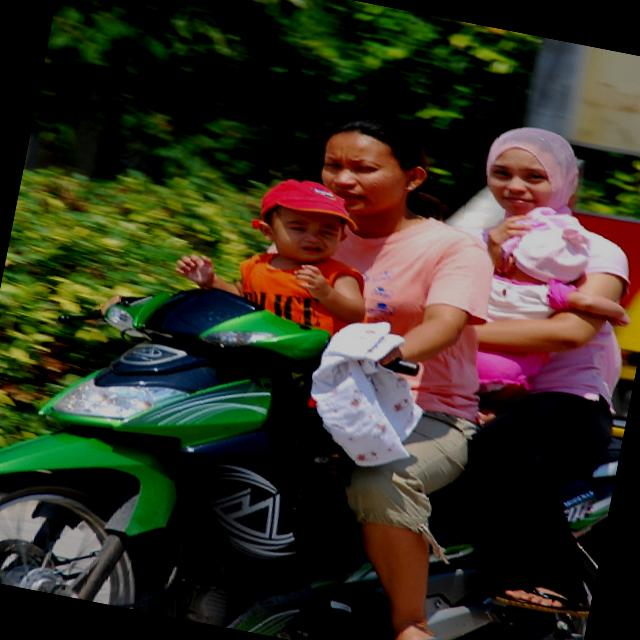Vehicle: (0, 247, 636, 640), (574, 188, 640, 549)
